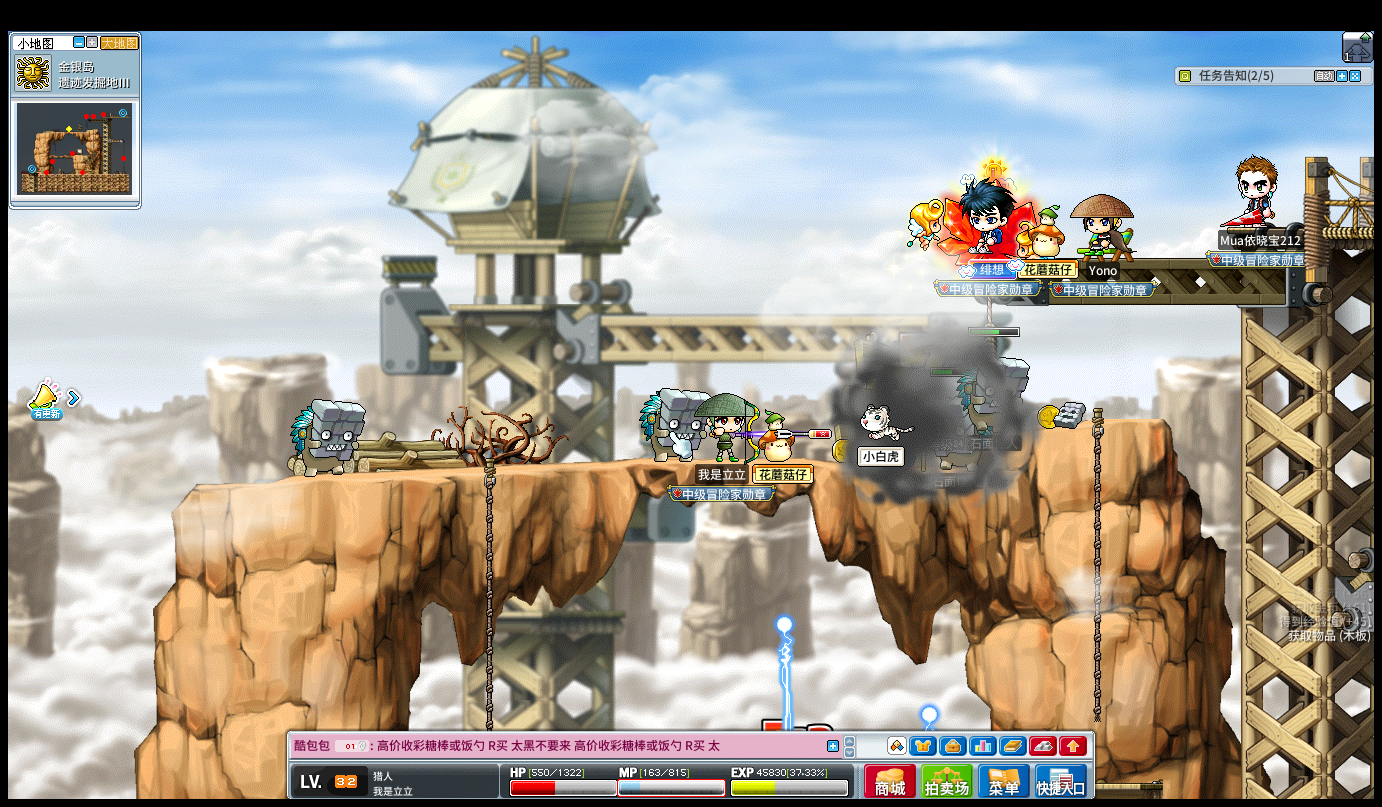floor: (167, 451, 941, 487), (203, 454, 1085, 480), (1040, 413, 1168, 430)
monster: (954, 353, 1034, 450), (290, 398, 365, 477), (638, 386, 705, 460)
rope: (1088, 408, 1104, 756), (1090, 404, 1104, 675), (483, 454, 495, 673)
